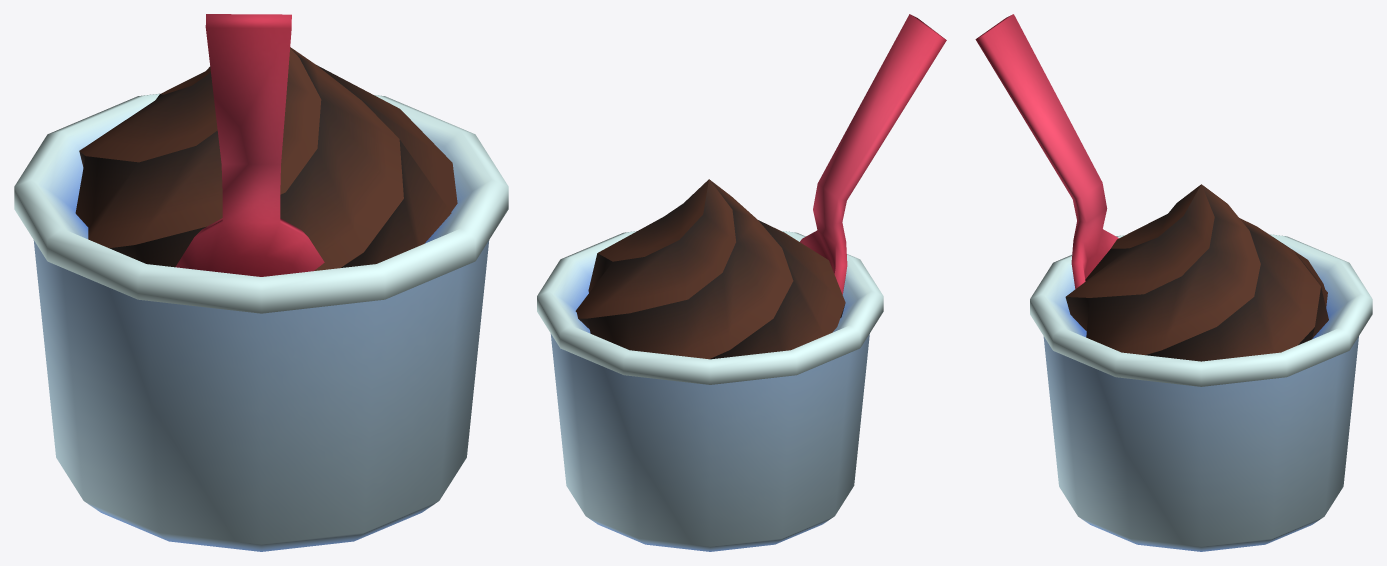
The model's file is m_FrozenYoghurt05.fbx.
The picture shows the model from 3 angles, left to right: view 1: azimuth 30°, elevation 25°; view 2: azimuth 150°, elevation 25°; view 3: azimuth 270°, elevation 25°; orthographic projection. The views are drawn at different scales.
Visible parts, largest first — view 1: m_FrozenYoghurt05; view 2: m_FrozenYoghurt05; view 3: m_FrozenYoghurt05.
Part boxes in pixels (x1,y1,x2,y2): m_FrozenYoghurt05: [14, 14, 508, 551]; m_FrozenYoghurt05: [537, 14, 946, 551]; m_FrozenYoghurt05: [975, 14, 1372, 551].
Size of the model in its own units: 13.65 by 18.45 by 15.83.
